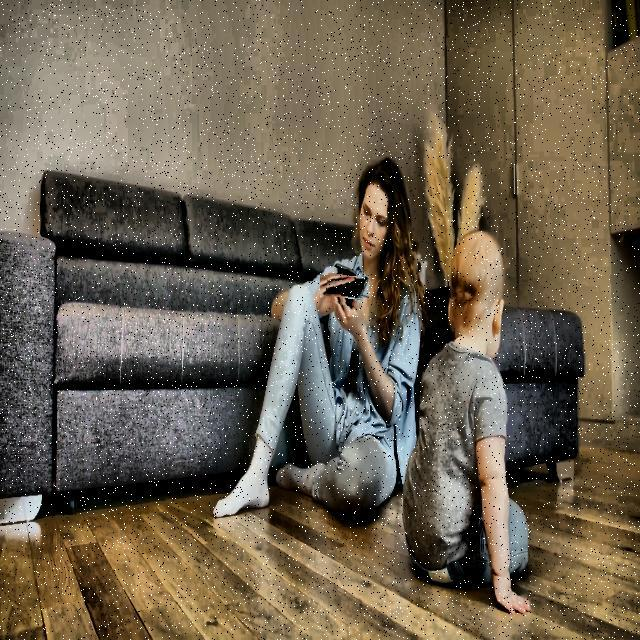Phone: (325, 268, 364, 306)
